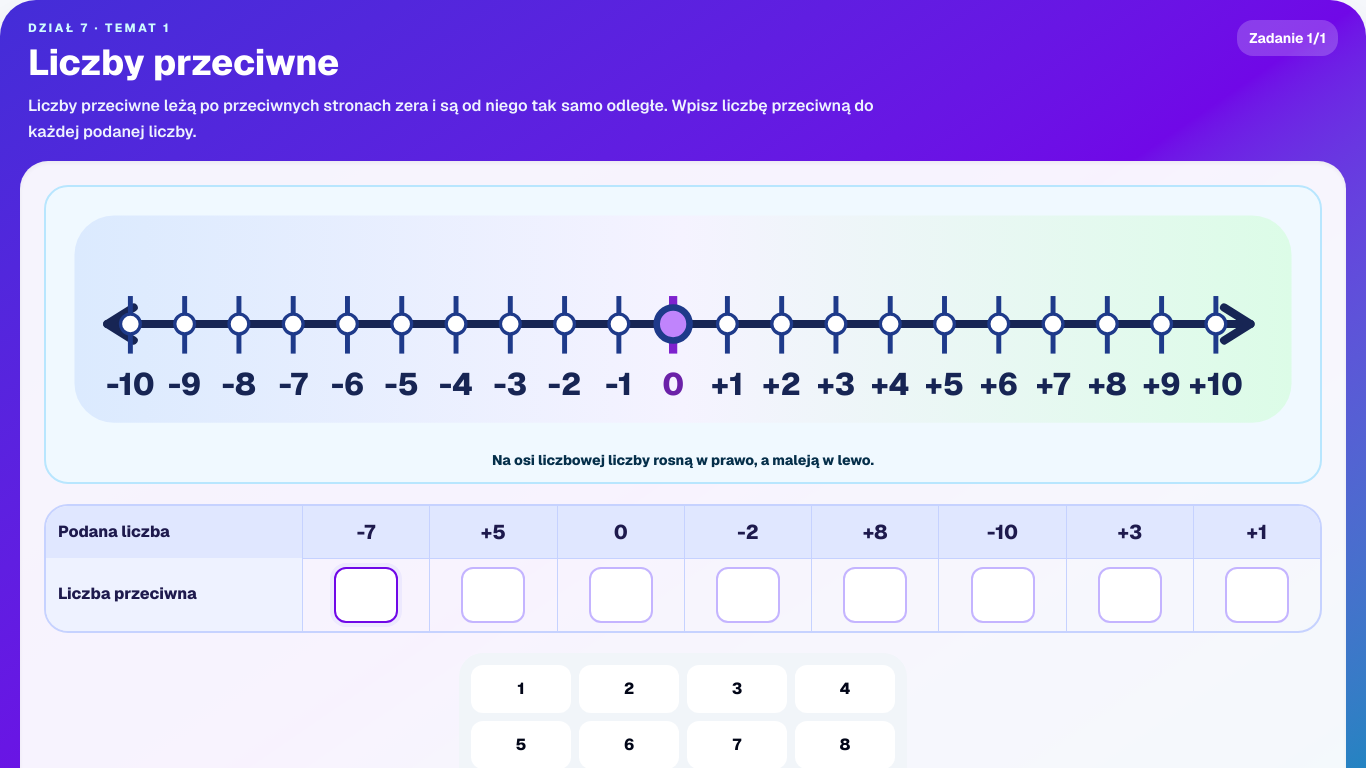
Scenario: IntegerNumbersLessonLab › używa tylko lekcyjnej klawiatury do wpisywania liczb przeciwnych
What coordinates should you click on to do the following:
click the field named "Liczba przeciwna do -7"
I would click on:
 (366, 595)
Its box is [334, 567, 398, 623].
(page scrolled)
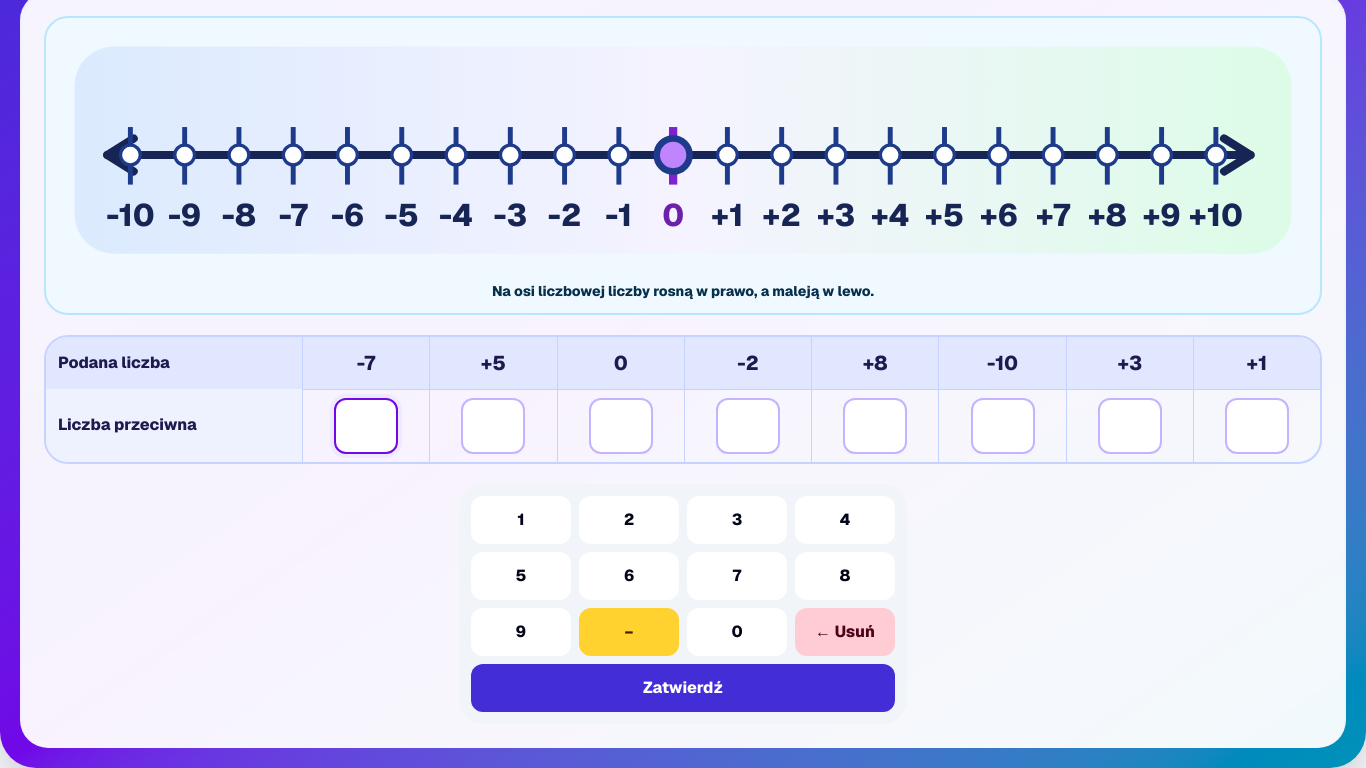
What coordinates should you click on to do the following:
click the button "−"
I would click on:
 (629, 632)
Its box is [579, 608, 679, 656].
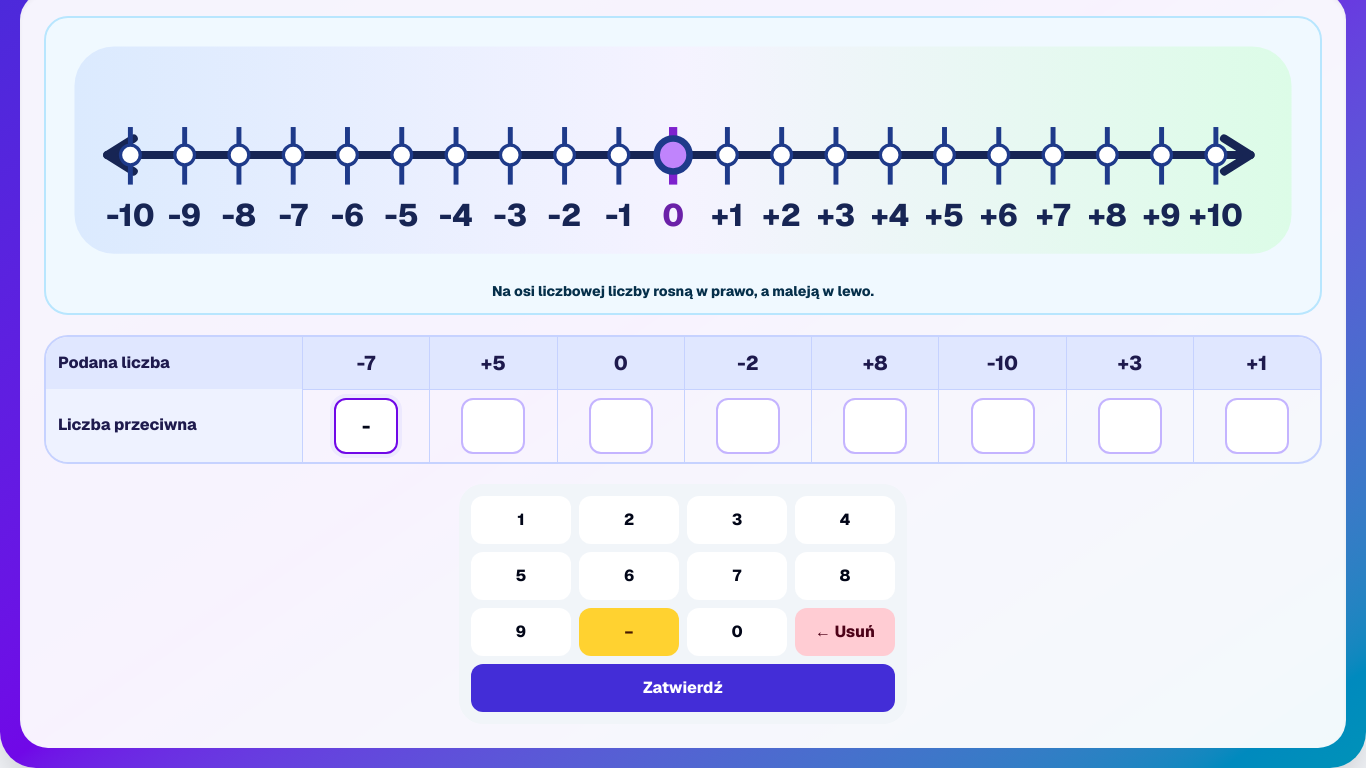
What coordinates should you click on to do the following:
click the button "7"
I would click on:
 (737, 576)
Its box is [687, 552, 787, 600].
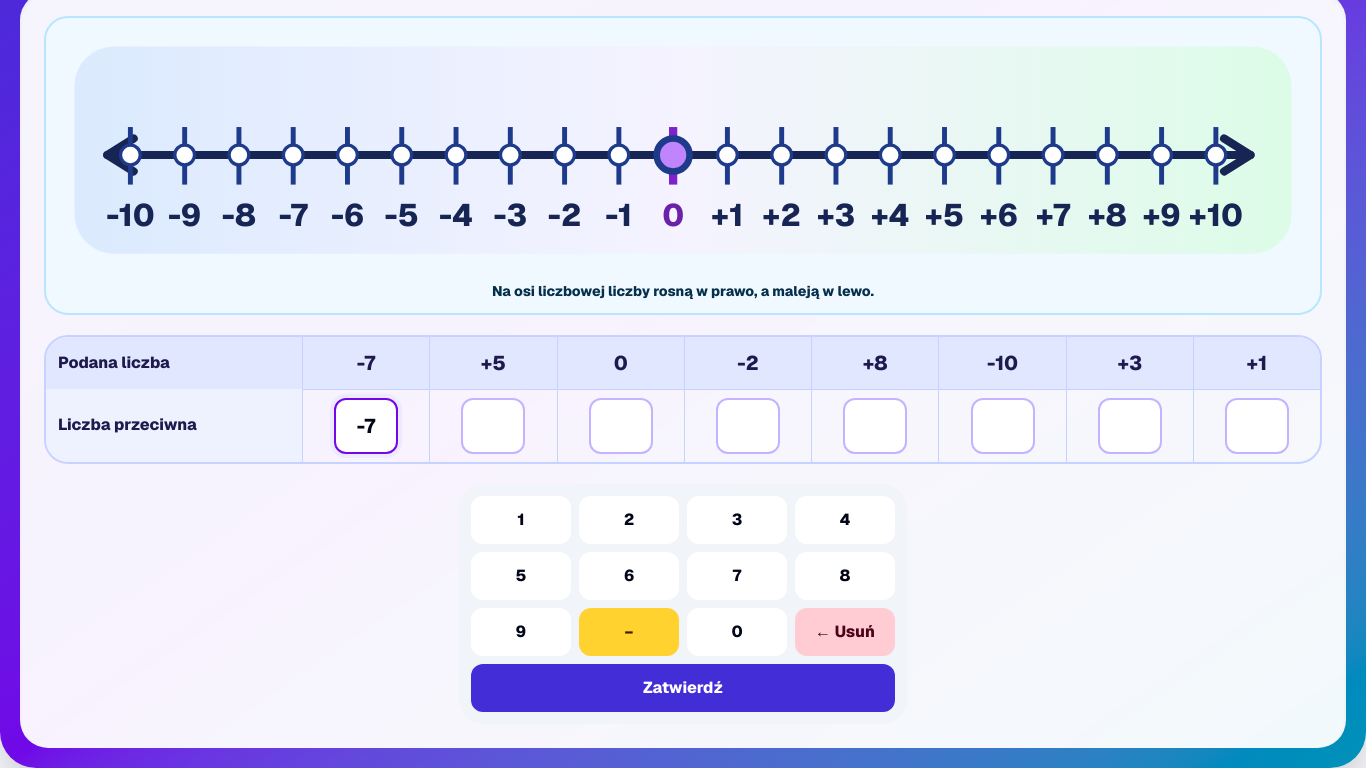
expect the field named "Liczba przeciwna do -7" holds "-7": met, box [334, 398, 398, 454]
